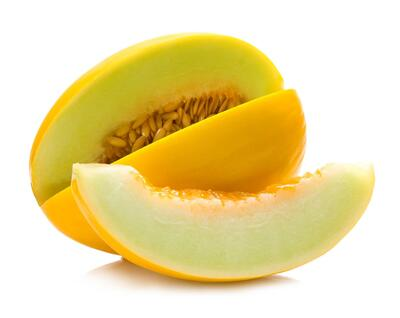Melon: (69, 163, 386, 284)
